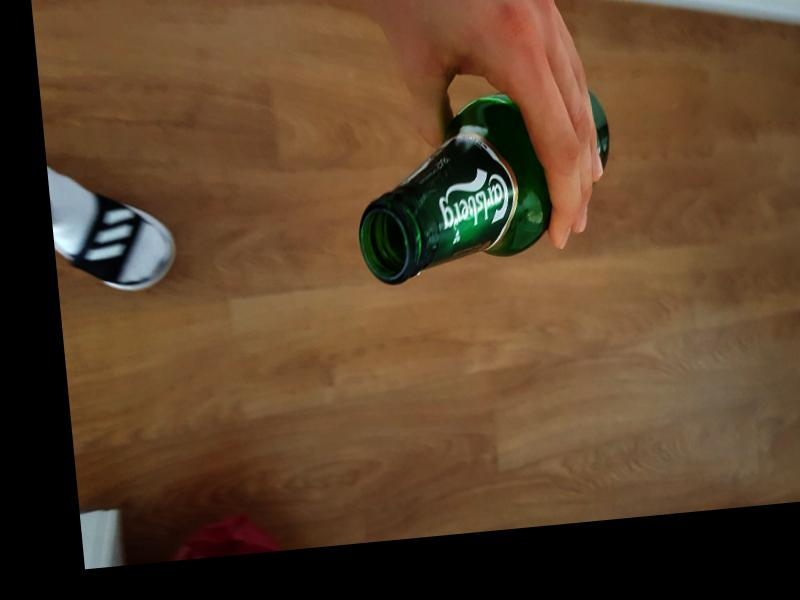Beer: (347, 85, 620, 289)
